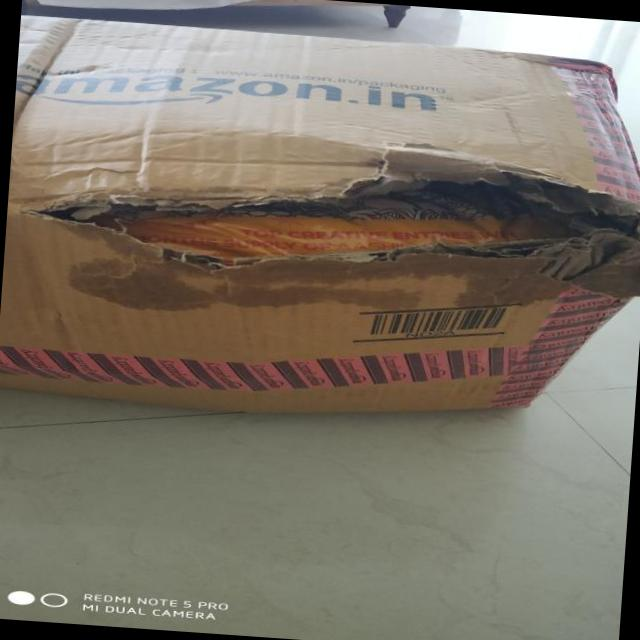box: (1, 12, 640, 411)
contamination: (72, 258, 588, 312)
crushed: (20, 16, 85, 133)
tear: (34, 141, 640, 260)
